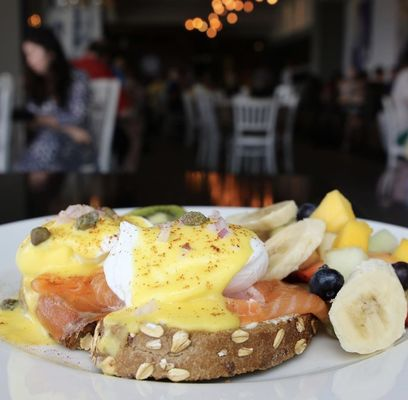pasta: (328, 259, 408, 354)
